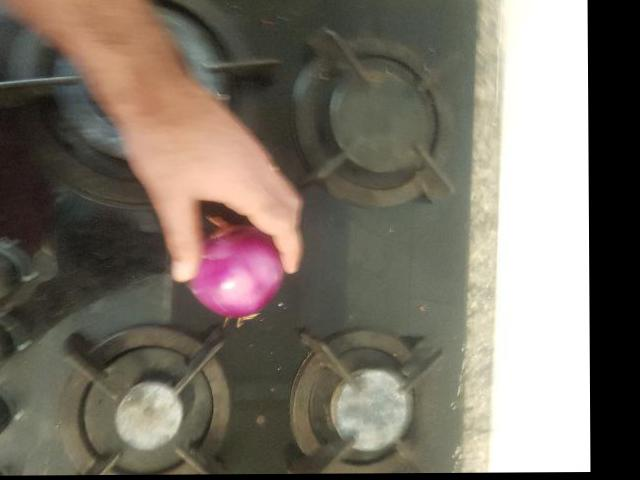onion: (185, 227, 286, 311)
